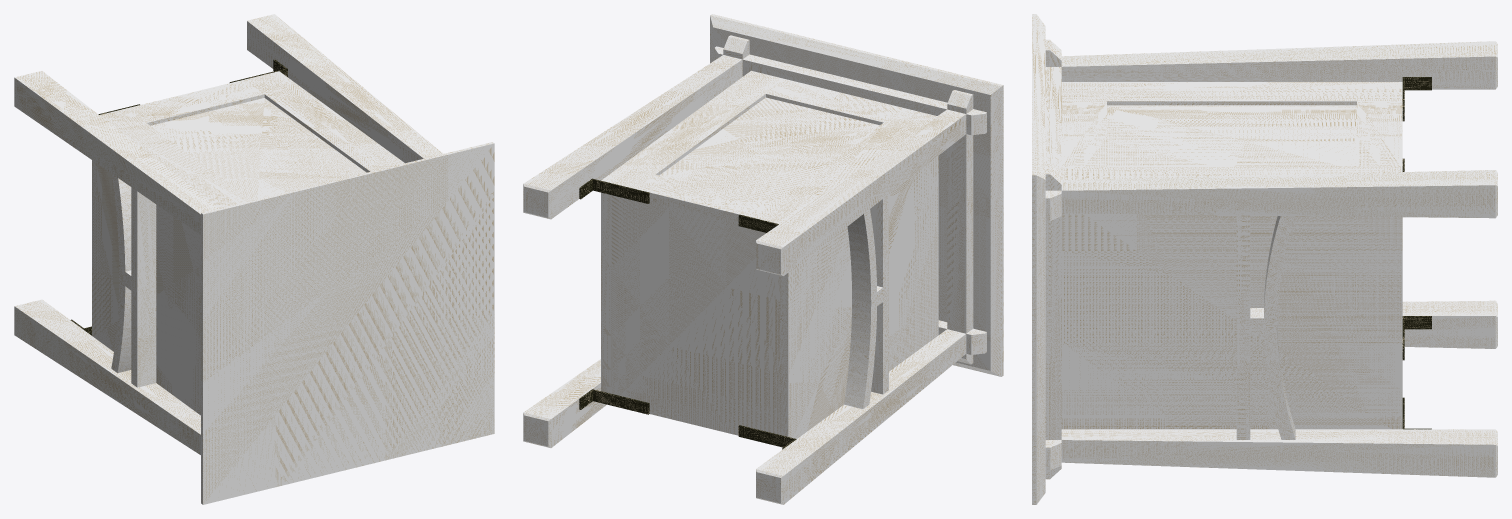
3 views of the same model, side by side, from view 1: azimuth 30°, elevation 25°; view 2: azimuth 150°, elevation 25°; view 3: azimuth 270°, elevation 25° (orthographic). The views are drawn at different scales.
Visible parts, largest first — view 1: american bungalow nightstand with drawer; view 2: american bungalow nightstand with drawer; view 3: american bungalow nightstand with drawer.
Part boxes in pixels (left/top/right/bottom): american bungalow nightstand with drawer: left=14, top=14, right=494, bottom=504; american bungalow nightstand with drawer: left=523, top=14, right=1003, bottom=504; american bungalow nightstand with drawer: left=1032, top=14, right=1497, bottom=504.
Bounding box in the file's own units: 21 × 20 × 25.62.
